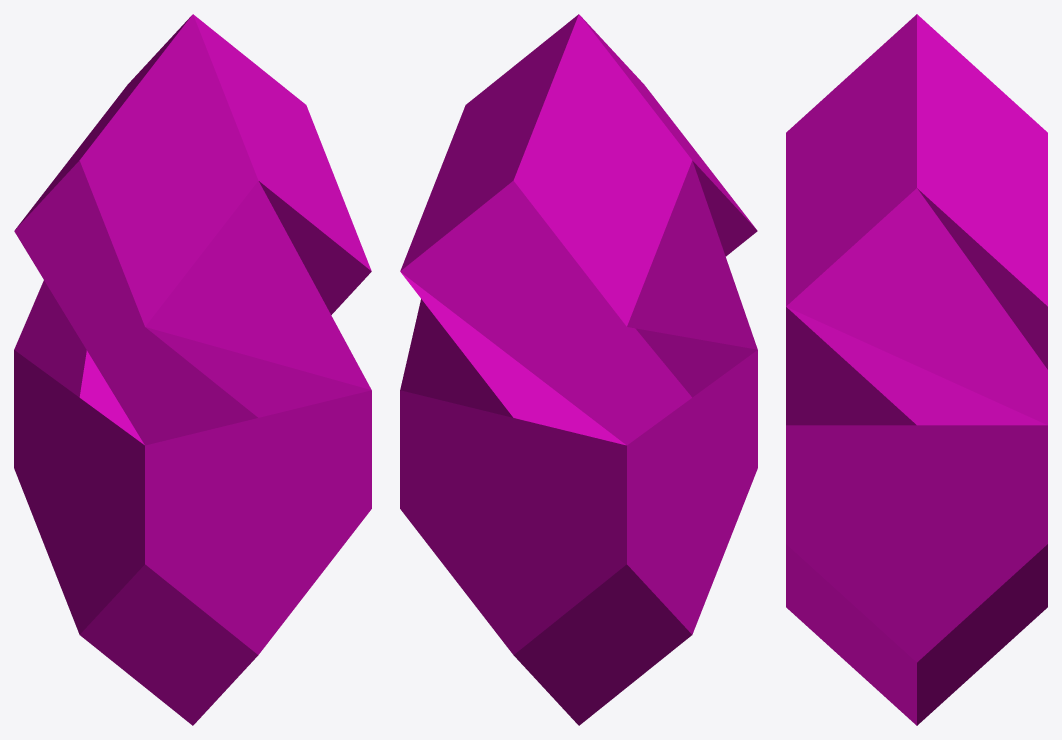
The picture shows the model from 3 angles, left to right: view 1: azimuth 30°, elevation 25°; view 2: azimuth 150°, elevation 25°; view 3: azimuth 270°, elevation 25°; orthographic projection.
Parts seen in each view (by area): view 1: Cube; view 2: Cube; view 3: Cube.
Part boxes in pixels (x1=…): Cube: x1=14, y1=14, x2=371, y2=725; Cube: x1=400, y1=14, x2=757, y2=725; Cube: x1=786, y1=14, x2=1047, y2=725.
Size of the model in its own units: 200 by 600 by 200.
